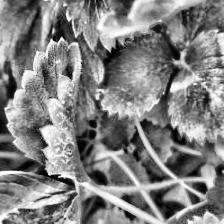Powdery Mildew Leaf: (4, 35, 94, 184), (0, 188, 84, 224)
